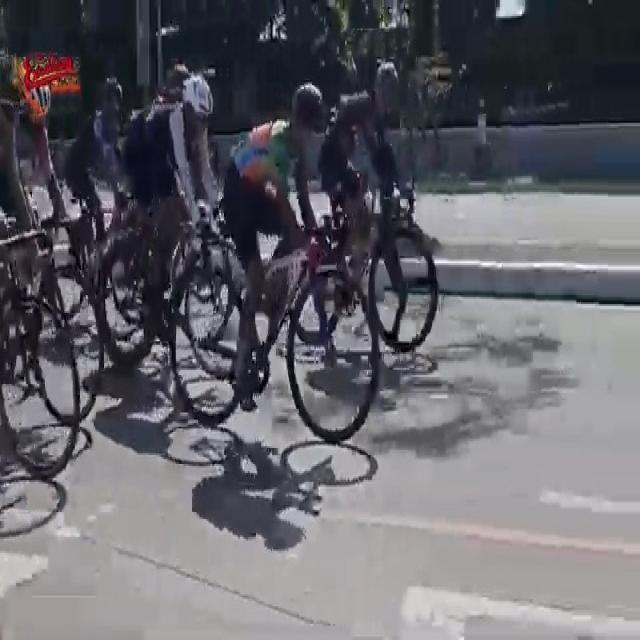bike: (167, 80, 383, 453), (288, 59, 441, 357), (102, 77, 235, 364), (1, 138, 110, 431), (0, 121, 82, 491)
